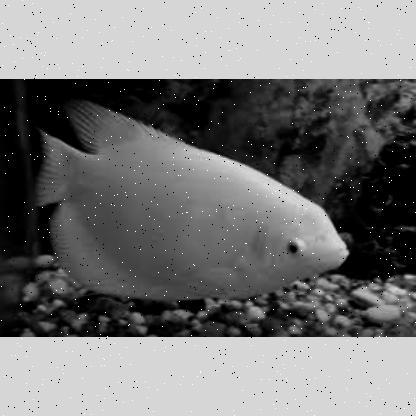gurame: (36, 99, 354, 301)
